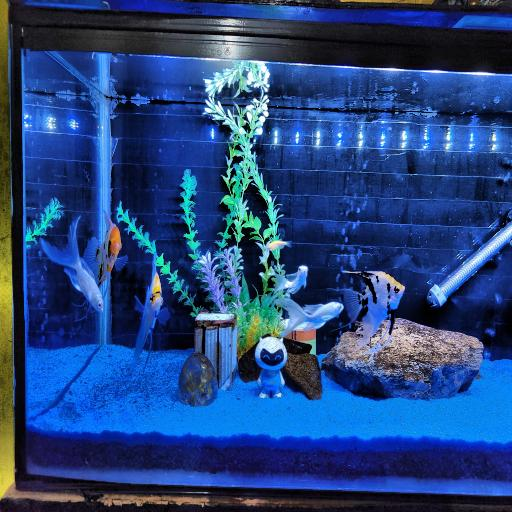Fish: (41, 217, 103, 312), (342, 271, 404, 351), (131, 254, 169, 371), (84, 211, 127, 286), (276, 298, 343, 332), (274, 266, 308, 294), (265, 241, 290, 251)
